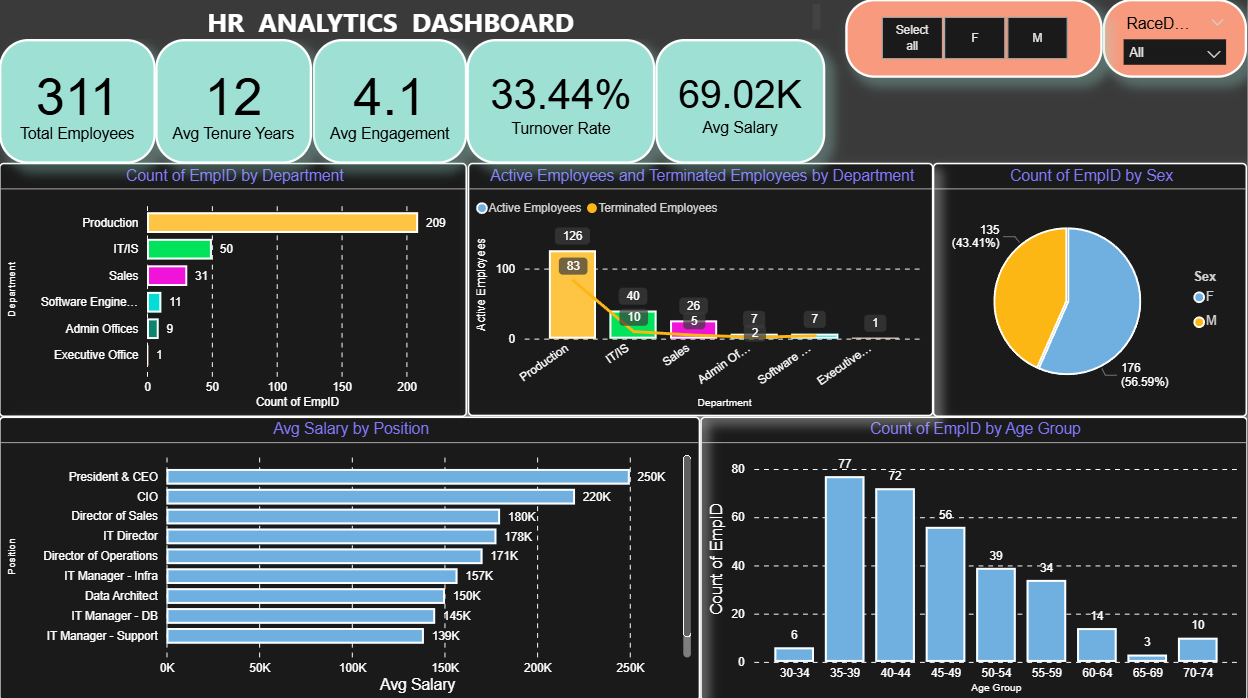

Layout of this report page (visuals, bound fields, positions):
{"tool":"powerbi","page":{"name":"Page 1","canvas":[1280,720],"ordinal":0},"visuals":[{"type":"pieChart","fields":{"Category":["HRDataset_v14 (2).Sex"],"Y":["CountNonNull(HRDataset_v14 (2).EmpID)"]},"box":[957.8,167.4,322.5,260.7],"z":0},{"type":"columnChart","fields":{"Y":["CountNonNull(HRDataset_v14 (2).EmpID)"],"Category":["HRDataset_v14 (2).Age Group"]},"box":[719,428.1,561.2,292.3],"z":1000},{"type":"barChart","fields":{"Category":["HRDataset_v14 (2).Department"],"Y":["CountNonNull(HRDataset_v14 (2).EmpID)"]},"box":[0,167.4,480.3,260.7],"z":2000},{"type":"slicer","fields":{"Values":["HRDataset_v14 (2).RaceDesc"]},"box":[1132,0,148,80.9],"z":3000},{"type":"slicer","fields":{"Values":["HRDataset_v14 (2).Sex"]},"box":[868.3,0,263.7,80.9],"z":4000},{"type":"lineClusteredColumnComboChart","fields":{"Category":["HRDataset_v14 (2).Department"],"Y":["HRDataset_v14 (2).Active Employees"],"Y2":["HRDataset_v14 (2).Terminated Employees"]},"box":[480.2,167.9,477.7,260],"z":5000},{"type":"card","fields":{"Values":["HRDataset_v14 (2).Avg Engagement"]},"box":[321.5,40.5,158.3,127.6],"z":6000},{"type":"card","fields":{"Values":["HRDataset_v14 (2).Turnover Rate"]},"box":[479.8,40.5,193.9,127.6],"z":7000},{"type":"card","fields":{"Values":["HRDataset_v14 (2).Total Employees"]},"box":[0,40.5,160.7,127.6],"z":8000},{"type":"card","fields":{"Values":["HRDataset_v14 (2).Avg Tenure Years"]},"box":[160.7,40.5,160.7,127.6],"z":9000},{"type":"card","fields":{"Values":["HRDataset_v14 (2).Avg Salary"]},"box":[673.6,40.5,174.2,127.6],"z":10000},{"type":"clusteredBarChart","fields":{"Category":["HRDataset_v14 (2).Position"],"Y":["HRDataset_v14 (2).Avg Salary"]},"box":[0,428.1,719,292.3],"z":11000},{"type":"textbox","box":[19.6,0,828.2,40.5],"z":12000}]}

Visuals, with their boxes in screenshot pixels (x1, y1, x2, y2), scaled from the page's 1280x720 canvas onto the 1248x698 screenshot:
pieChart - HRDataset_v14 (2).Sex x CountNonNull(HRDataset_v14 (2).EmpID): (934,162,1247,415)
columnChart - CountNonNull(HRDataset_v14 (2).EmpID) x HRDataset_v14 (2).Age Group: (701,415,1247,697)
barChart - HRDataset_v14 (2).Department x CountNonNull(HRDataset_v14 (2).EmpID): (0,162,468,415)
slicer - HRDataset_v14 (2).RaceDesc: (1104,0,1247,78)
slicer - HRDataset_v14 (2).Sex: (847,0,1104,78)
lineClusteredColumnComboChart - HRDataset_v14 (2).Department x HRDataset_v14 (2).Active Employees: (468,163,934,415)
card - HRDataset_v14 (2).Avg Engagement: (313,39,468,163)
card - HRDataset_v14 (2).Turnover Rate: (468,39,657,163)
card - HRDataset_v14 (2).Total Employees: (0,39,157,163)
card - HRDataset_v14 (2).Avg Tenure Years: (157,39,313,163)
card - HRDataset_v14 (2).Avg Salary: (657,39,827,163)
clusteredBarChart - HRDataset_v14 (2).Position x HRDataset_v14 (2).Avg Salary: (0,415,701,697)
textbox: (19,0,827,39)
